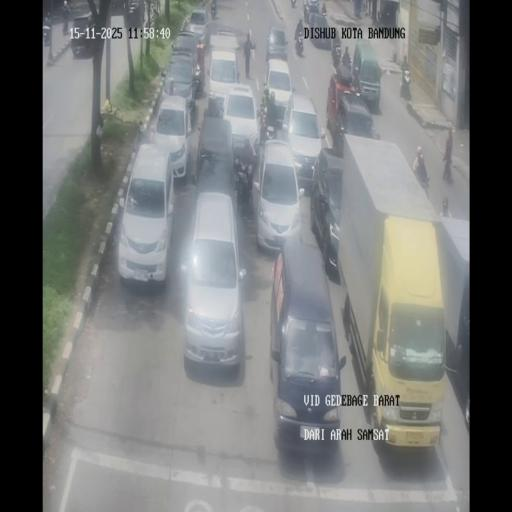3: (336, 137, 456, 448), (438, 227, 470, 432), (325, 71, 359, 148), (353, 40, 382, 111), (208, 32, 238, 54), (378, 0, 400, 26)
car: (268, 240, 342, 454), (181, 190, 247, 369), (118, 143, 174, 285), (277, 93, 324, 186), (313, 148, 345, 276), (194, 114, 236, 190), (162, 54, 198, 120), (206, 49, 240, 114), (262, 58, 294, 125), (70, 13, 98, 58), (307, 12, 331, 50), (264, 24, 288, 62), (186, 8, 209, 45), (126, 0, 144, 27)
truck: (233, 155, 251, 209), (254, 122, 268, 174), (263, 116, 280, 142), (400, 65, 412, 100), (416, 169, 430, 196), (194, 55, 202, 96), (340, 49, 352, 73), (294, 30, 304, 56), (332, 42, 340, 68), (42, 23, 50, 46), (61, 1, 69, 21), (330, 29, 338, 46), (304, 2, 310, 23), (210, 0, 216, 18), (321, 2, 327, 15), (290, 0, 297, 9)
